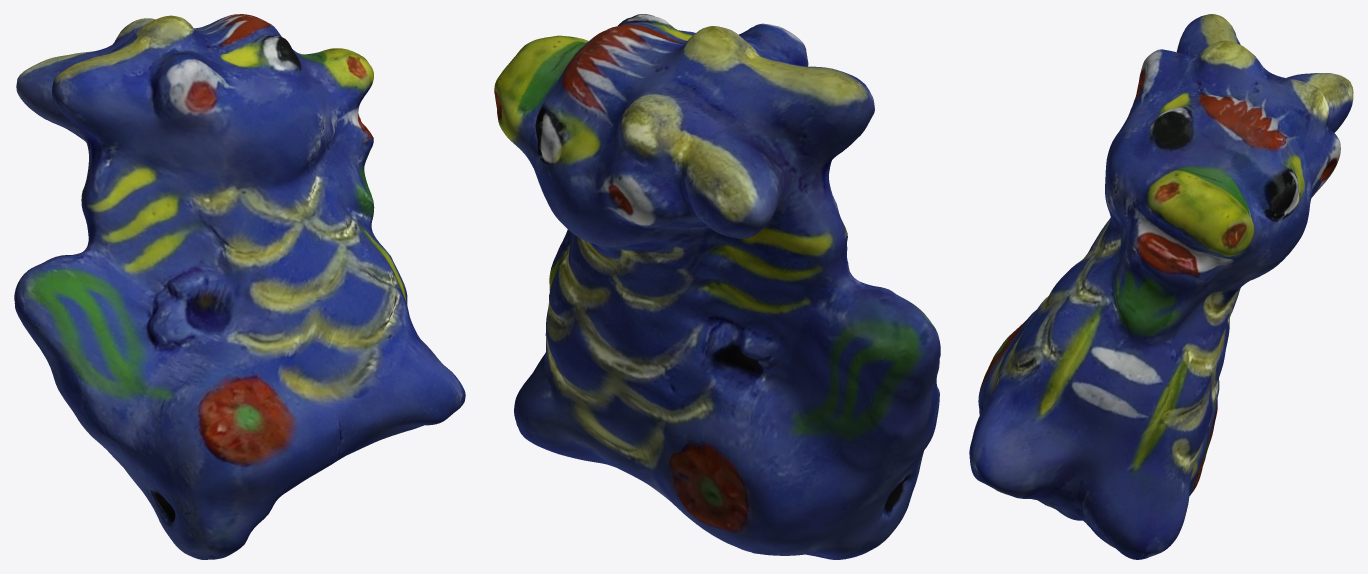
3 views of the same model, side by side, from view 1: azimuth 30°, elevation 25°; view 2: azimuth 150°, elevation 25°; view 3: azimuth 270°, elevation 25° (orthographic). The views are drawn at different scales.
Bounding box in the file's own units: 0.3255 × 0.398 × 0.2846.
Materials: 1 (1 with a texture image).
